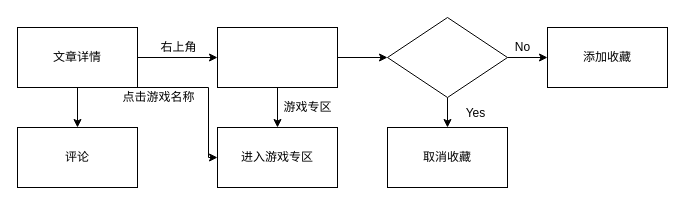
This 685x205 diagram has some shape labels left out. The shapes that lost their labels are listed below. From the top down, each one's centre as x and y in pixels, then its label:
(x=277, y=57): 展示菜单
(x=447, y=57): 已收藏？
